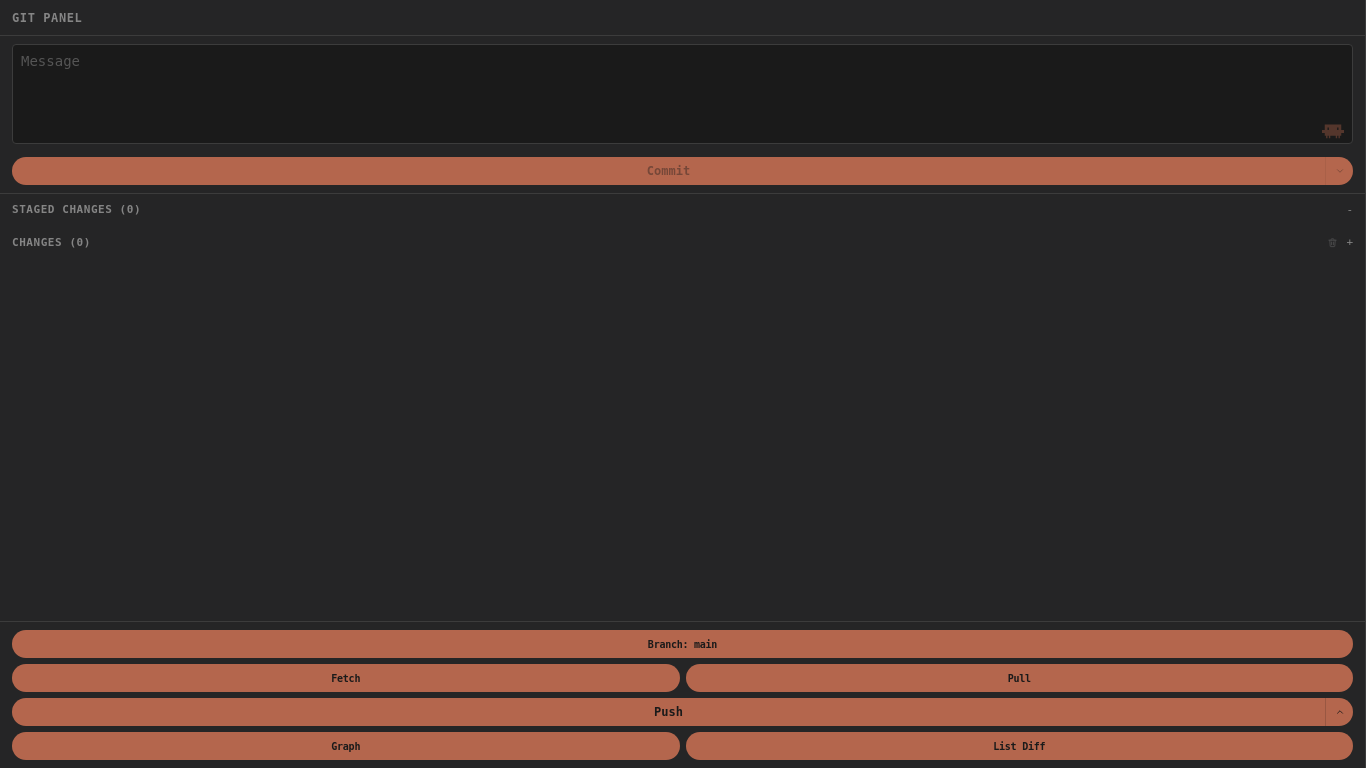
Test: GitPanel — push options (force push) › clicking Publish Branch runs push --set-upstream origin <branch> and closes the panel
Click the button named "Push options" at (1339, 712), box [1325, 698, 1353, 726]
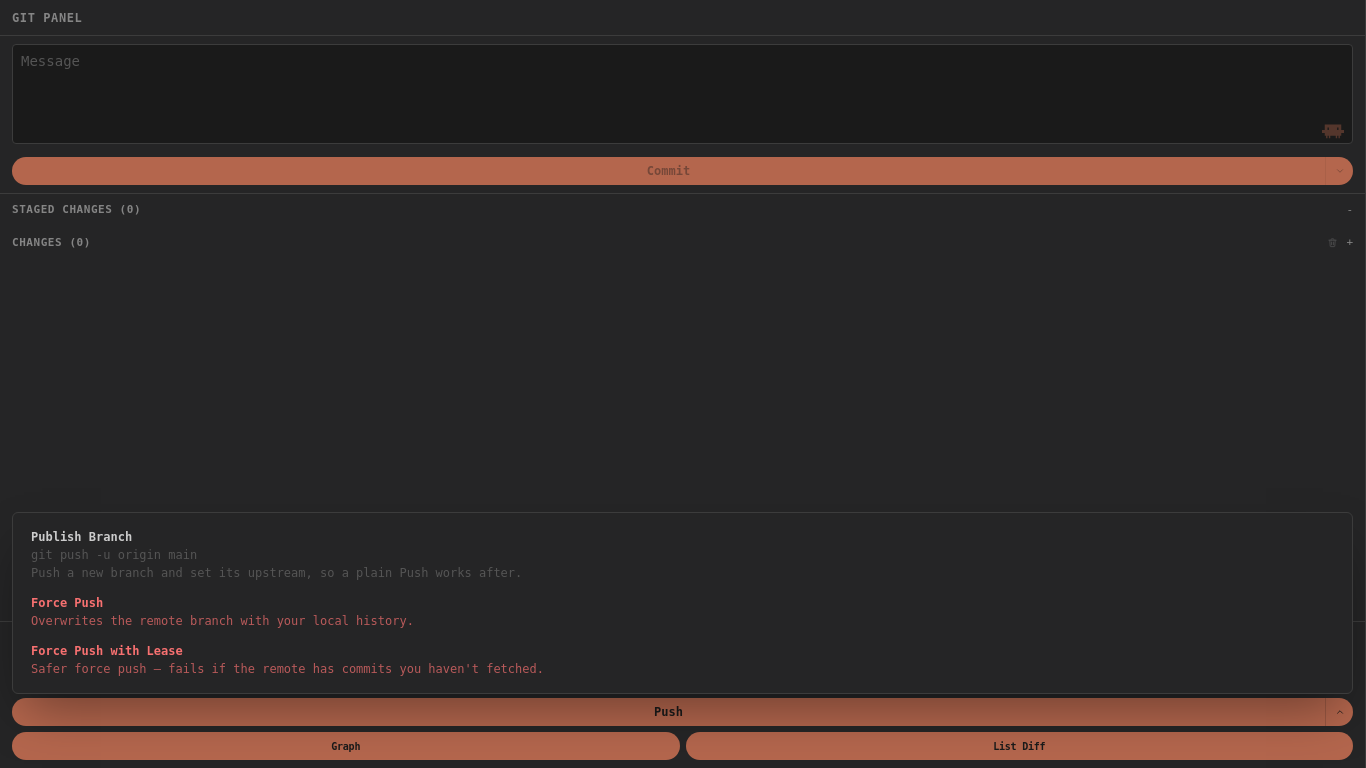
Click the text "Publish Branch" at (82, 537), box [31, 529, 132, 545]
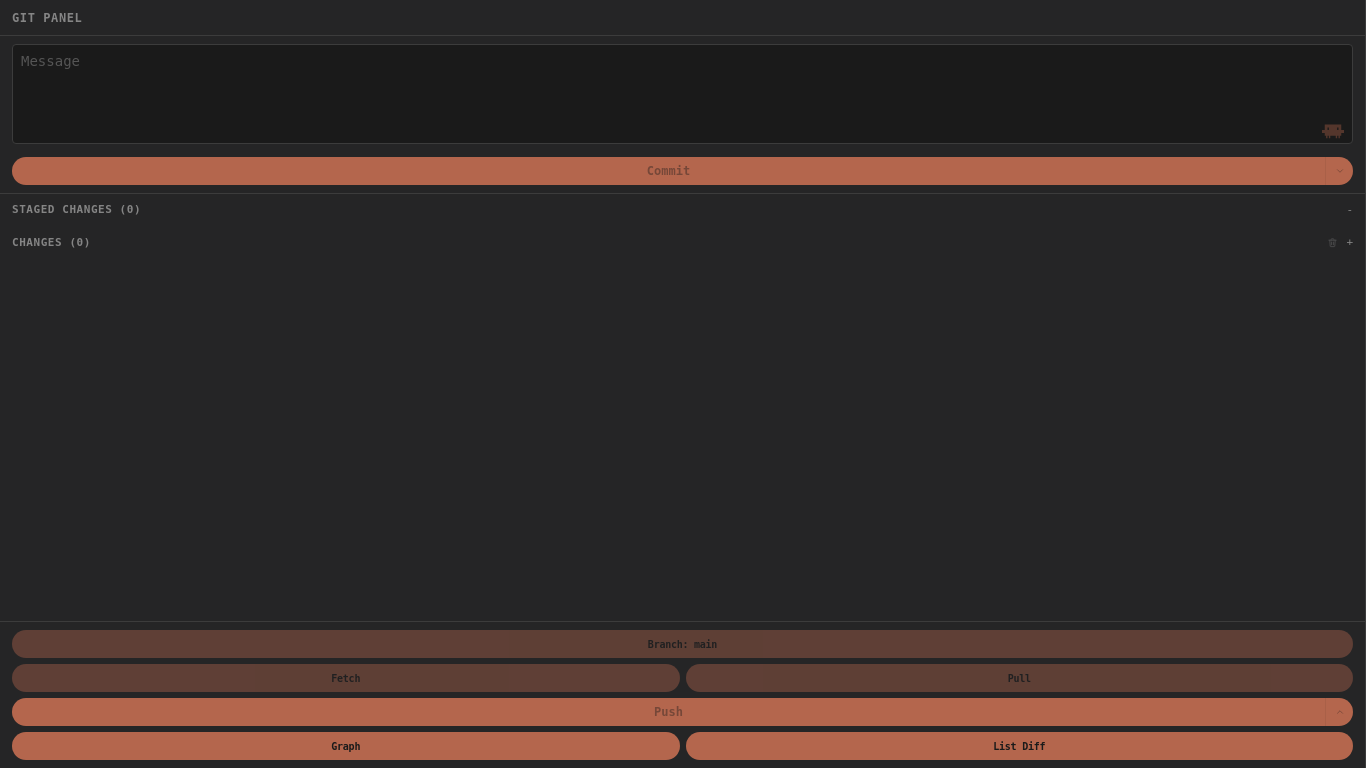
Result: the button "Publish Branch" is gone
